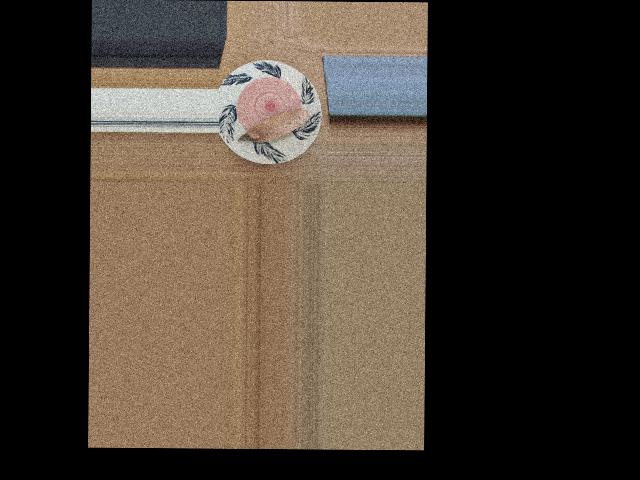sweet_potato: (245, 106, 305, 143)
